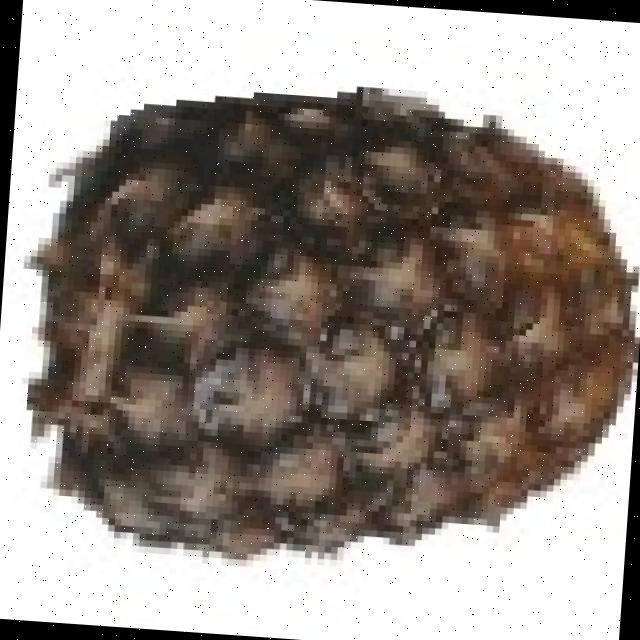pineapple: (37, 104, 637, 564)
